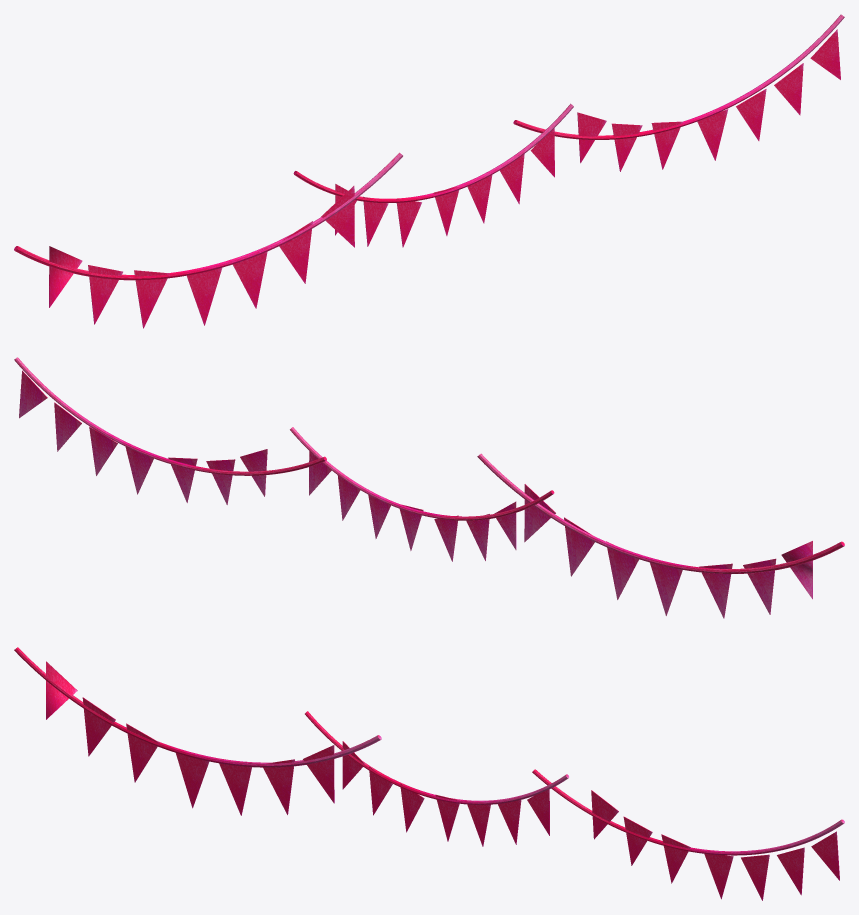
Rendered from party_flags_pink.glb.
The picture shows the model from 3 angles, top to bottom: view 1: azimuth 30°, elevation 25°; view 2: azimuth 150°, elevation 25°; view 3: azimuth 330°, elevation 25°; orthographic projection. The views are drawn at different scales.
Visible parts, largest first — view 1: pCube429; view 2: pCube429; view 3: pCube429.
Part boxes in pixels (x1,y1,x2,y2): pCube429: [14, 14, 844, 328]; pCube429: [14, 357, 844, 618]; pCube429: [14, 647, 844, 900].
Bounding box in the file's own units: 4.16 × 0.6093 × 0.2285.
Materials: 1 (1 with a texture image).
